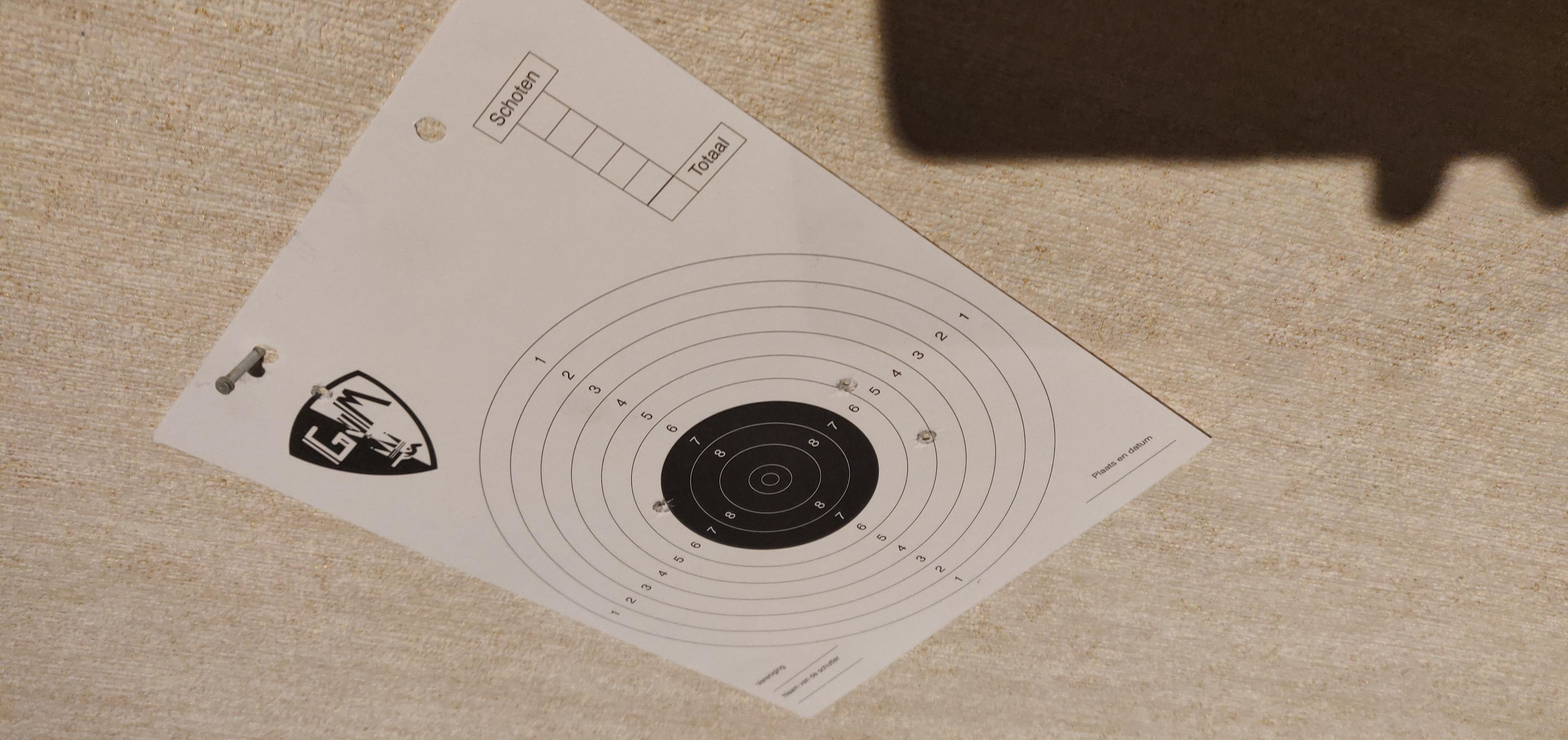hole: (714, 146, 758, 158), (732, 394, 772, 406), (477, 307, 516, 318), (622, 431, 660, 442)
